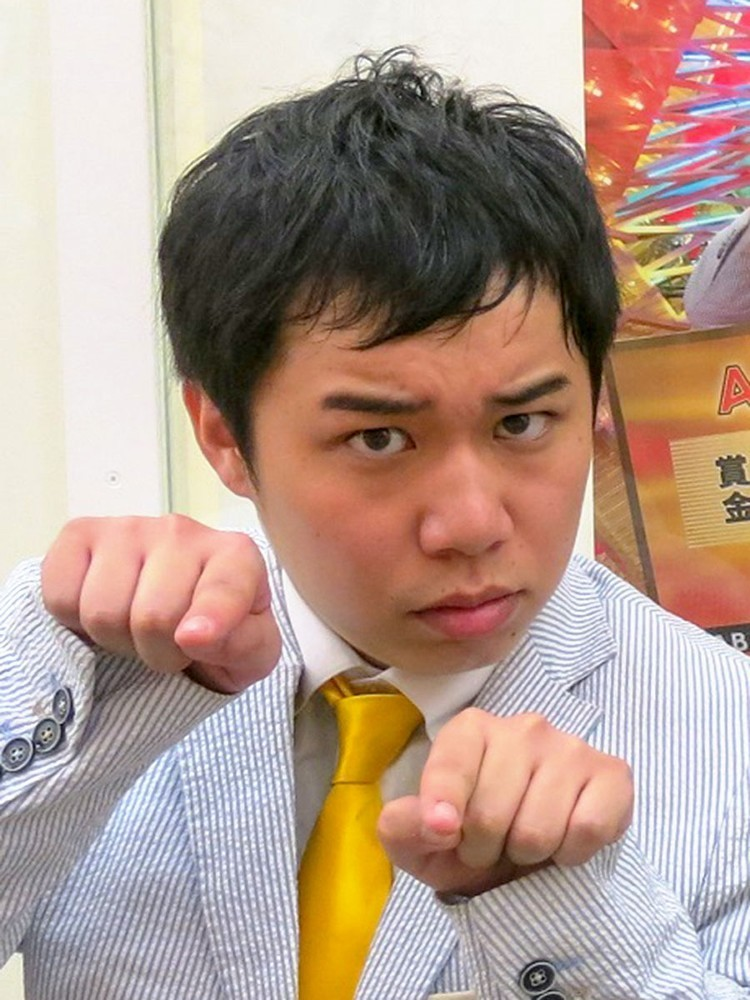face: (180, 229, 599, 674)
hand: (372, 704, 639, 892), (34, 510, 286, 692)
